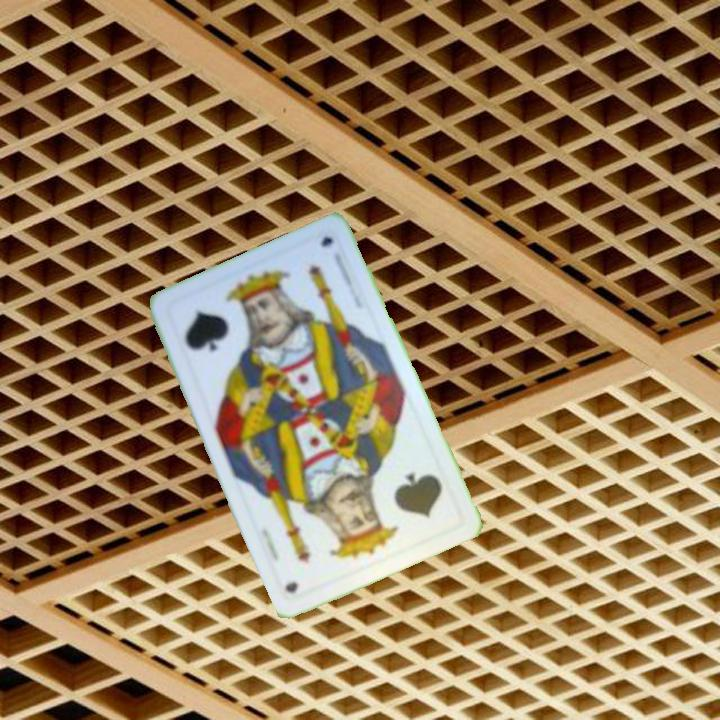s_k.png: (158, 269, 283, 387), (341, 446, 465, 563)
